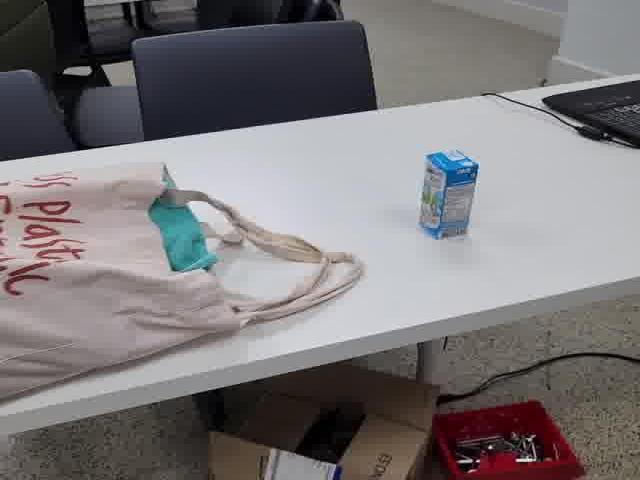drink_box: (411, 143, 486, 249)
